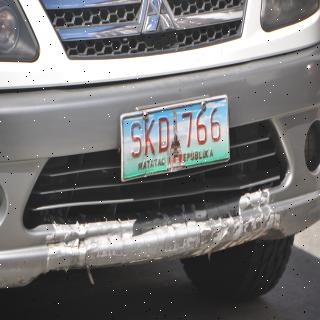license: (122, 97, 230, 183)
